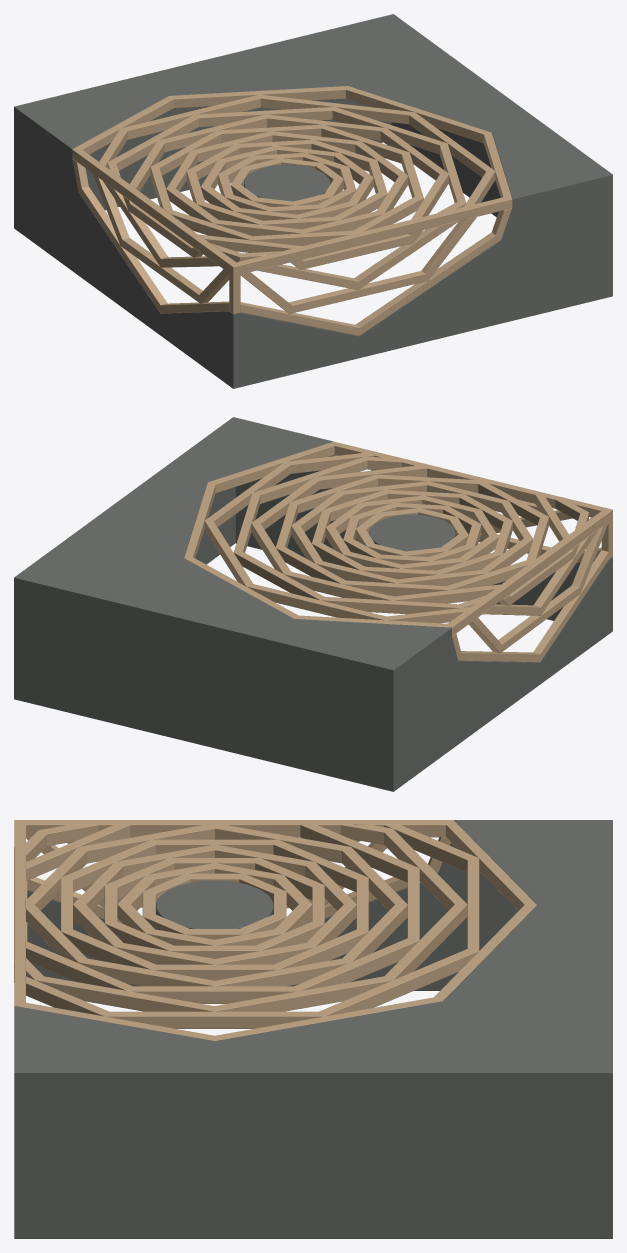
Rendered from modern-coffee-table.glb.
3 views of the same model, one above another, from view 1: azimuth 30°, elevation 25°; view 2: azimuth 150°, elevation 25°; view 3: azimuth 270°, elevation 25° (orthographic). The views are drawn at different scales.
Parts seen in each view (by area): view 1: modern_coffee_table_02; view 2: modern_coffee_table_02; view 3: modern_coffee_table_02.
Part boxes in pixels (box(x1,y1,x2,y2)): modern_coffee_table_02: box(14, 14, 612, 388); modern_coffee_table_02: box(14, 417, 612, 791); modern_coffee_table_02: box(14, 820, 612, 1238).
Bounding box in the file's own units: 1.2 × 0.3692 × 1.2.
